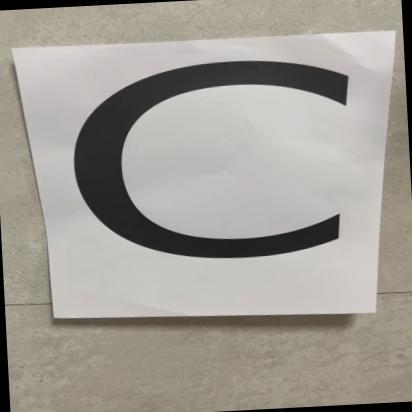seat: (11, 14, 412, 329)
